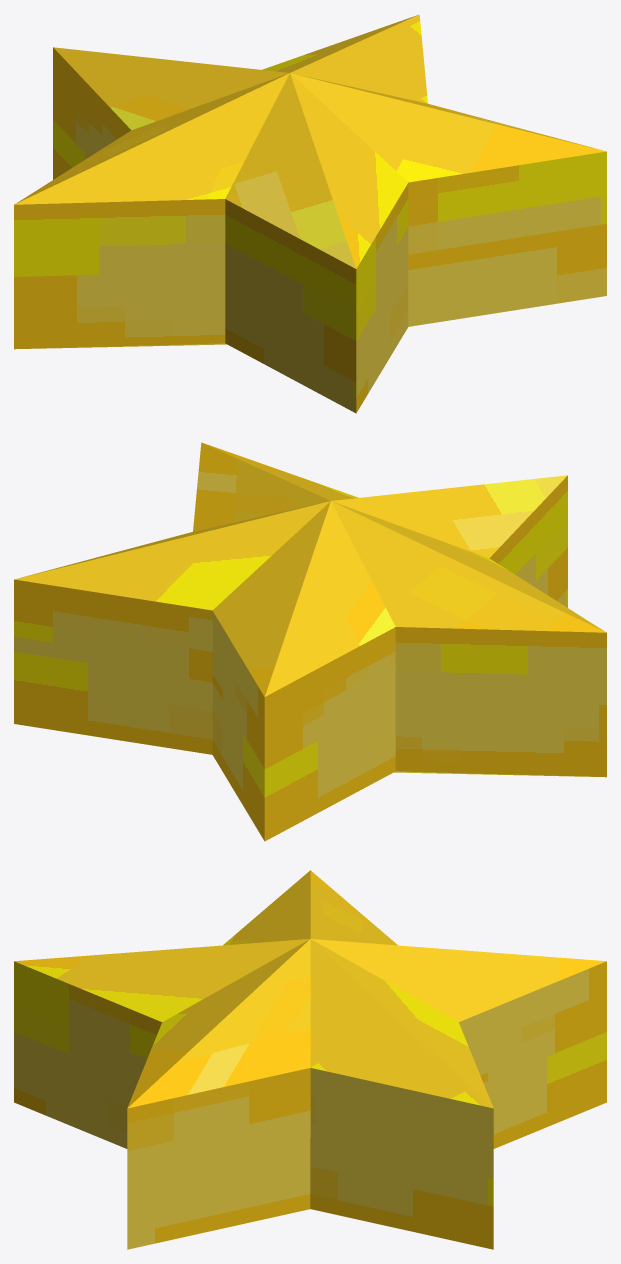
File: Star.fbx
The picture shows the model from 3 angles, top to bottom: view 1: azimuth 30°, elevation 25°; view 2: azimuth 150°, elevation 25°; view 3: azimuth 270°, elevation 25°; orthographic projection. The views are drawn at different scales.
Parts seen in each view (by area): view 1: Star; view 2: Star; view 3: Star.
Boxes of the visible parts, x1,y1,x2,y2 form: Star: (14, 14, 606, 413); Star: (14, 442, 606, 841); Star: (14, 870, 606, 1249).
Bounding box in the file's own units: 0.5243 × 0.2711 × 0.5513.
